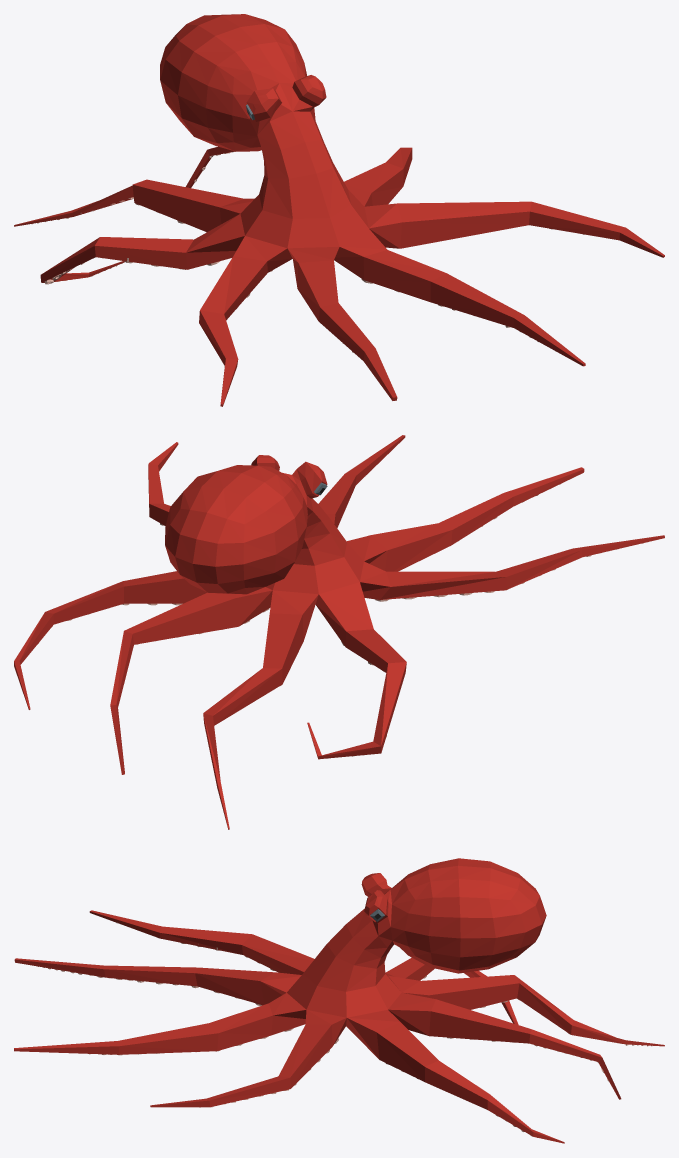
File: octopus.glb
3 renders of one model, top to bottom at view 1: azimuth 30°, elevation 25°; view 2: azimuth 150°, elevation 25°; view 3: azimuth 270°, elevation 25°, orthographic. The views are drawn at different scales.
Visible parts, largest first — view 1: Node; view 2: Node; view 3: Node.
Part boxes in pixels (x1=…): Node: x1=14, y1=14, x2=664, y2=406; Node: x1=14, y1=435, x2=664, y2=829; Node: x1=14, y1=858, x2=664, y2=1143.
Size of the model in its own units: 3.98 by 2.07 by 5.43.
